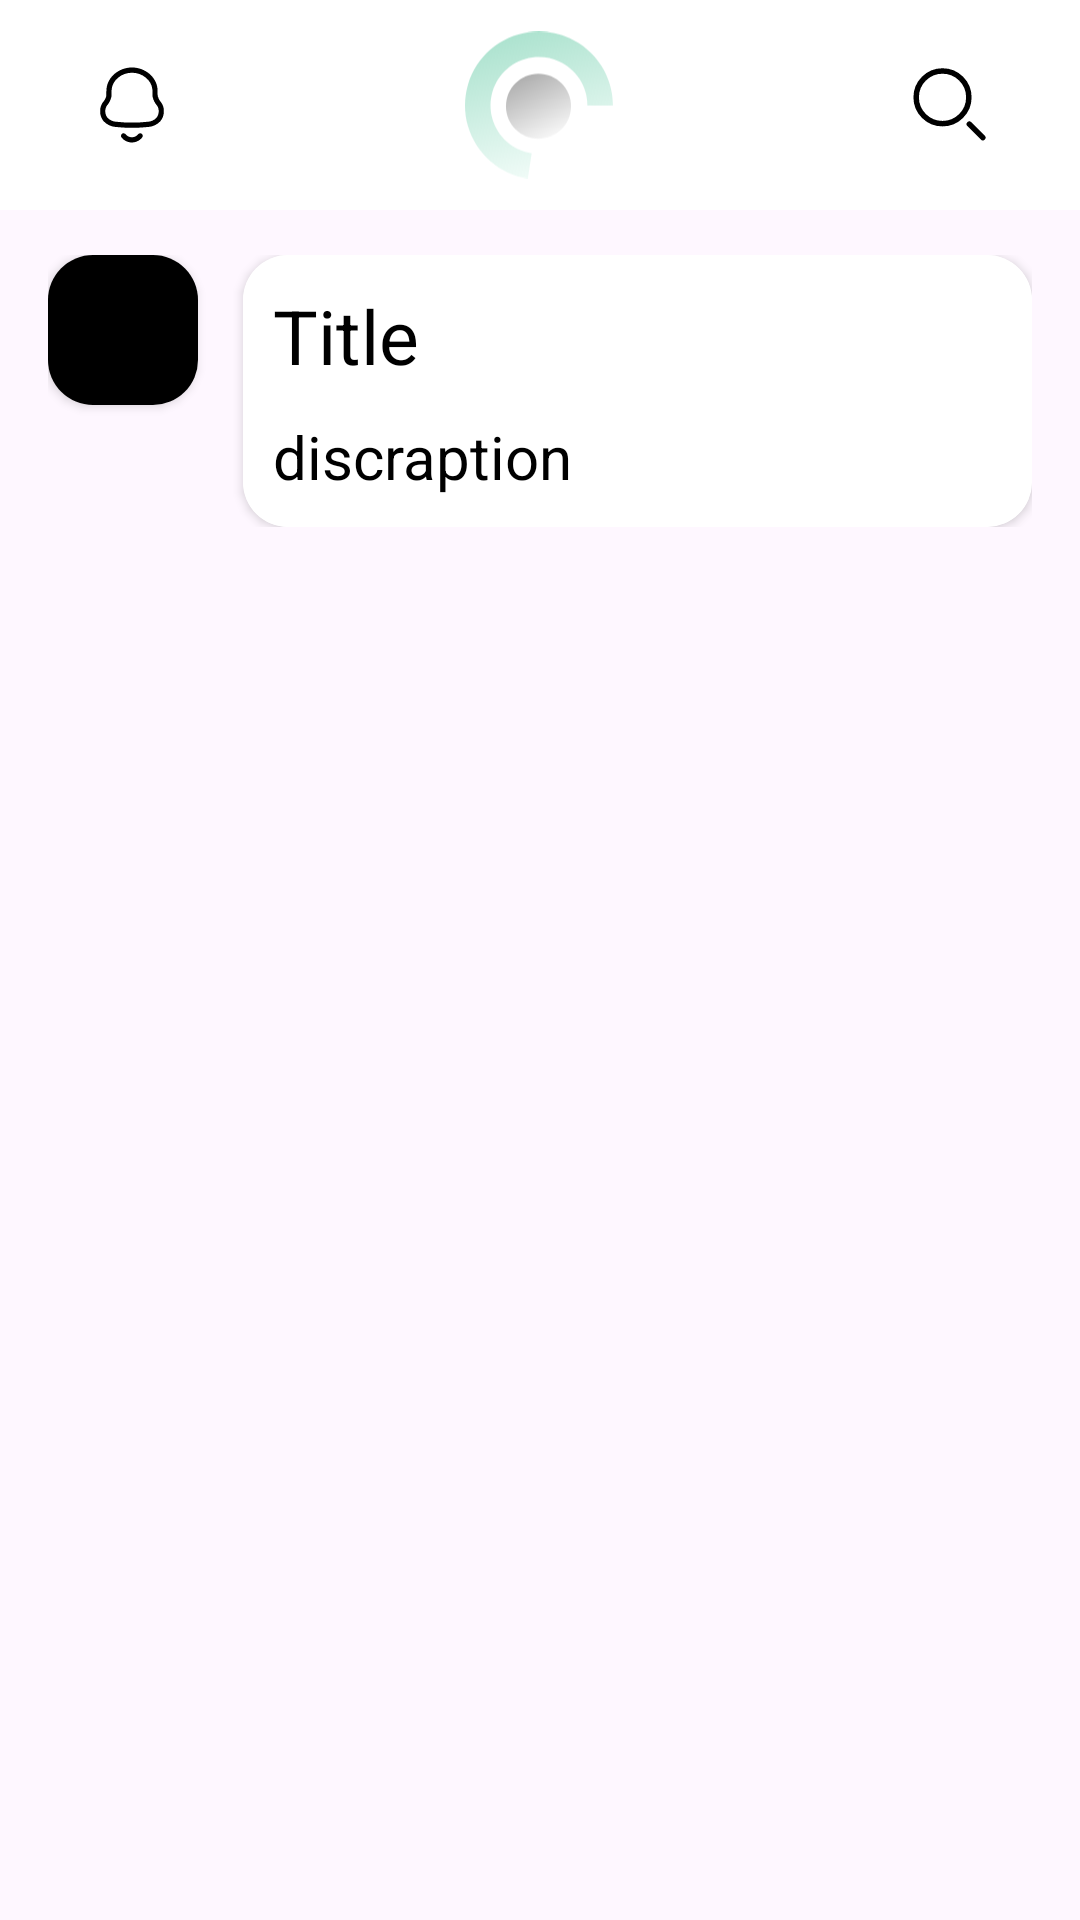

Where to tap for icons on this 1080x1920 app screen, as point (x, y):
notification: point (132, 105)
search: point (949, 104)
